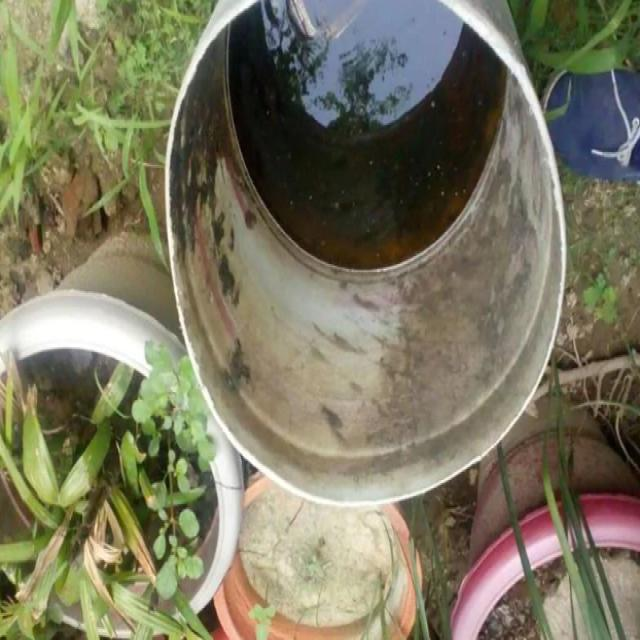Breeding Place: (144, 0, 600, 509), (0, 235, 254, 640), (202, 391, 442, 640), (454, 365, 640, 640)
